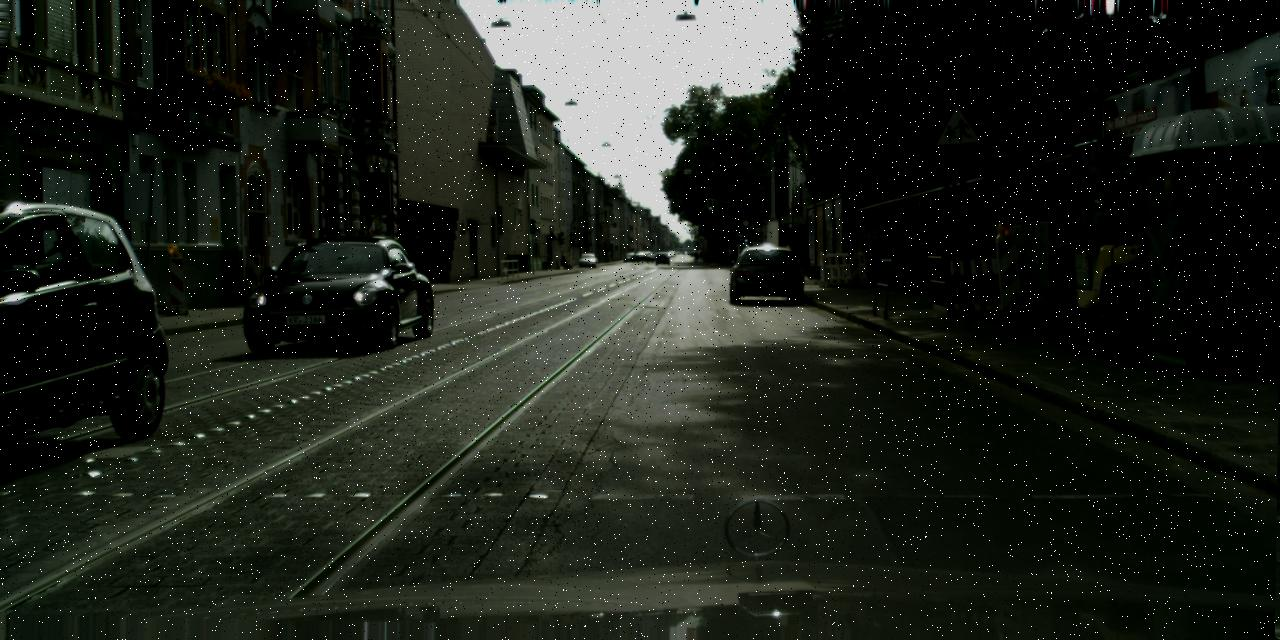ped: (726, 246, 734, 265)
